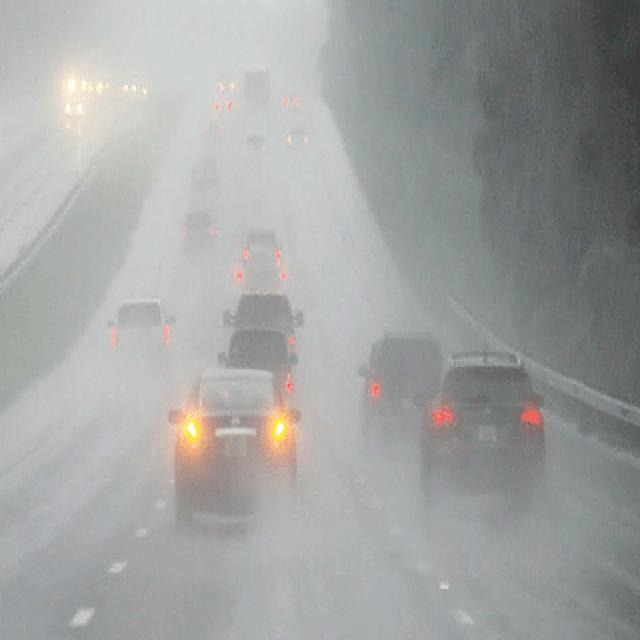bus: (242, 66, 272, 126)
car: (166, 371, 299, 521), (424, 352, 549, 482), (364, 333, 441, 446), (220, 334, 297, 394), (219, 294, 302, 342), (111, 297, 168, 356), (234, 264, 289, 300), (236, 226, 287, 263), (178, 209, 216, 248), (191, 158, 219, 192), (241, 130, 265, 166), (284, 120, 308, 150), (280, 83, 302, 107)
